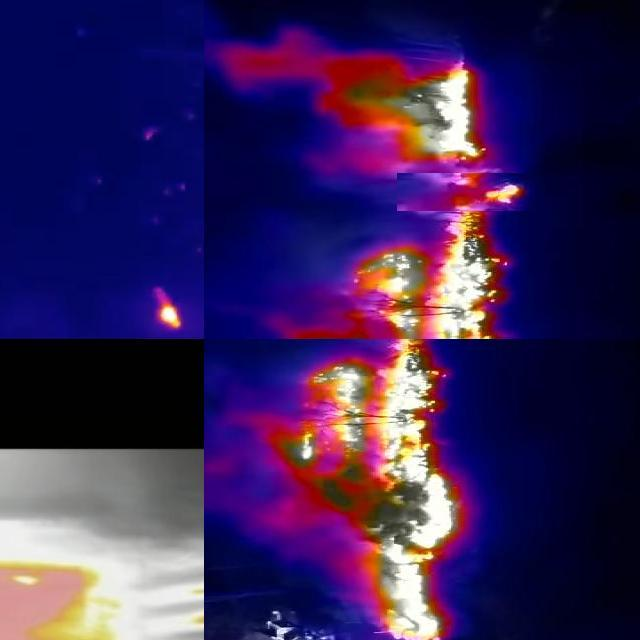fire: (260, 340, 467, 640), (305, 209, 535, 340), (314, 48, 492, 164), (1, 522, 109, 640), (398, 173, 534, 211), (153, 289, 183, 331)
